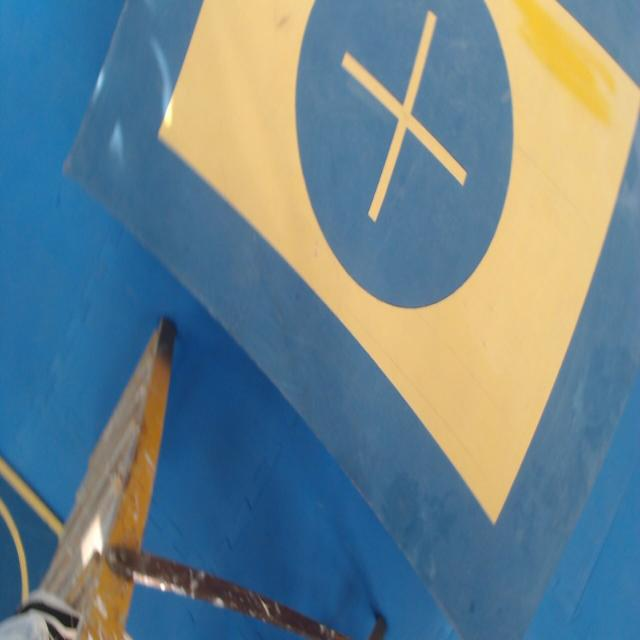base_inicio: (157, 0, 640, 524)
